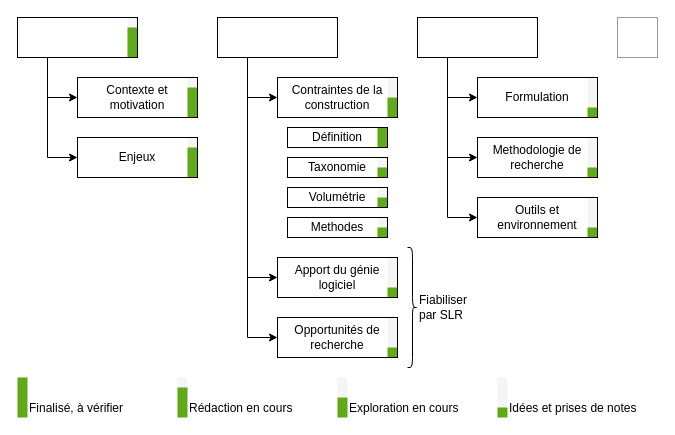
This 675x435 diagram has some shape labels left out. The centre of each missing label's shape, as x and y in pixels:
ADU: point (637, 37)
Etat de l'art: point (277, 37)
Introduction: point (77, 37)
Problématique: point (477, 37)
